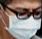with_mask: (1, 1, 42, 39)
